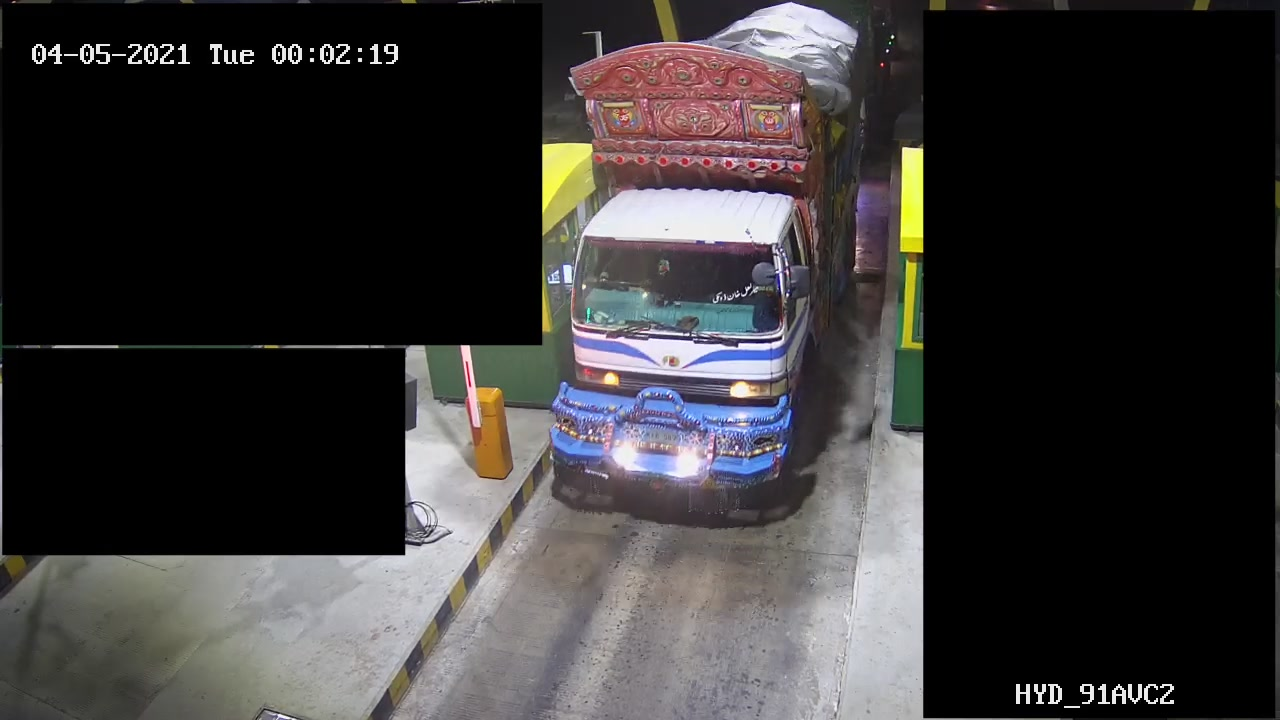F5: (548, 4, 863, 527)
